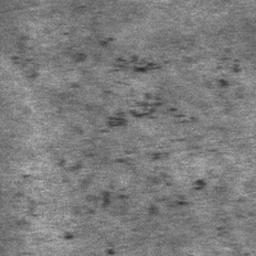Rolled in scale: (58, 38, 224, 225), (215, 199, 254, 256), (15, 175, 41, 256), (216, 48, 243, 99), (11, 36, 39, 79), (46, 31, 85, 56), (107, 242, 115, 256), (64, 232, 75, 241)
